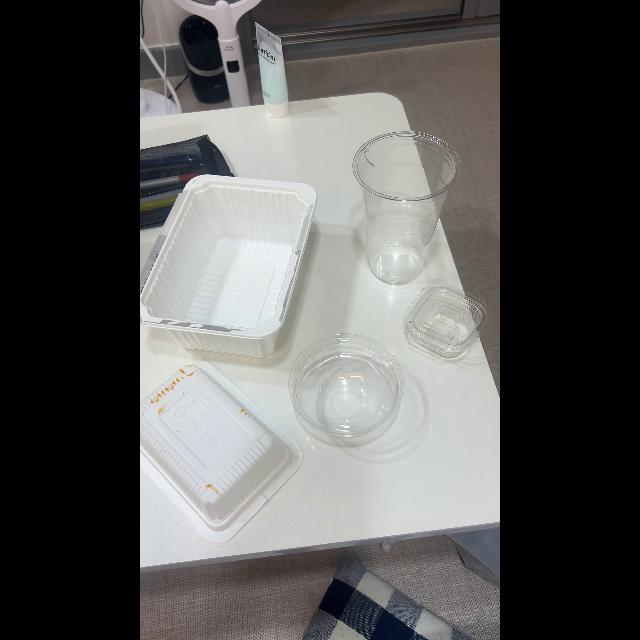clean: (178, 174, 312, 346), (356, 137, 449, 285), (293, 348, 412, 442), (415, 292, 485, 360)
dirty: (141, 360, 265, 520)
